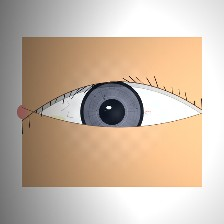pinguecula_lesion: (28, 100, 79, 141)
